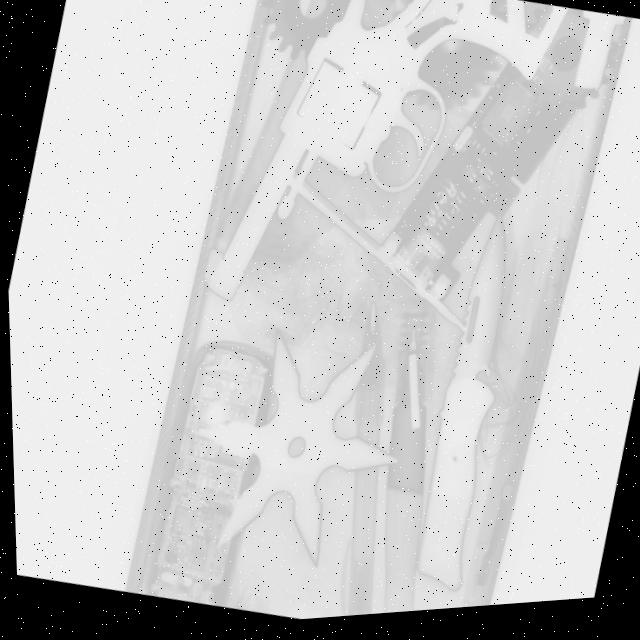knife: (393, 208, 547, 604)
pistol: (187, 0, 576, 368)
